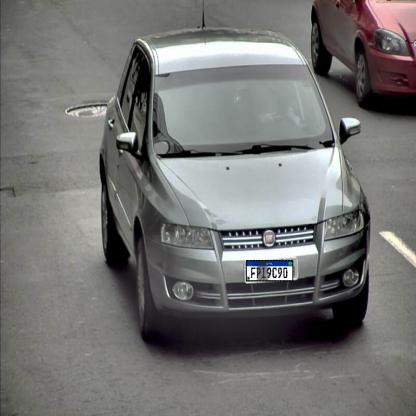PlacaM: (246, 260, 293, 281)
